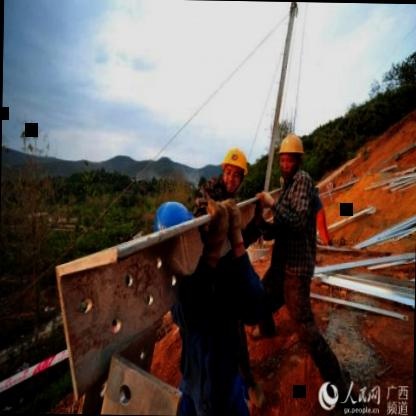helmet: (150, 195, 200, 265), (216, 140, 250, 196), (275, 130, 306, 178)
